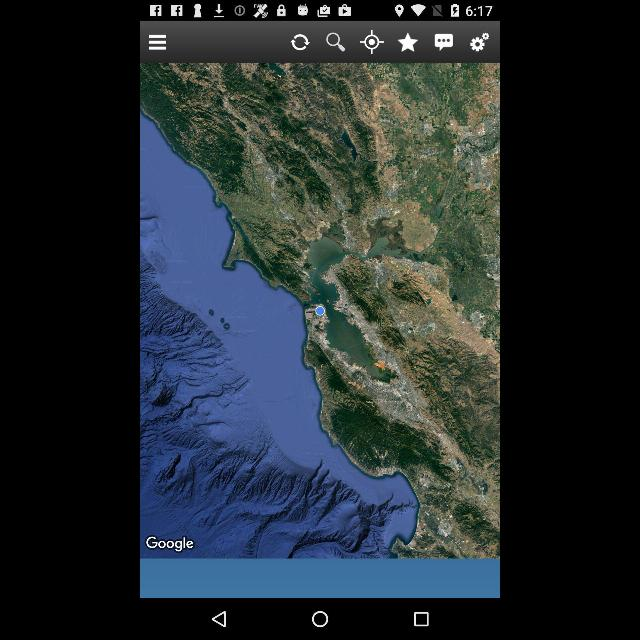icon: (358, 28, 384, 56), (394, 31, 420, 54), (324, 32, 346, 52), (434, 32, 454, 52), (470, 32, 490, 52), (310, 610, 330, 630), (210, 609, 228, 629), (290, 34, 310, 51), (148, 34, 167, 51), (414, 610, 430, 628)
map: (140, 64, 500, 558)
panel: (140, 21, 500, 63), (141, 599, 499, 640)
uppertaskbar: (140, 1, 499, 22)
